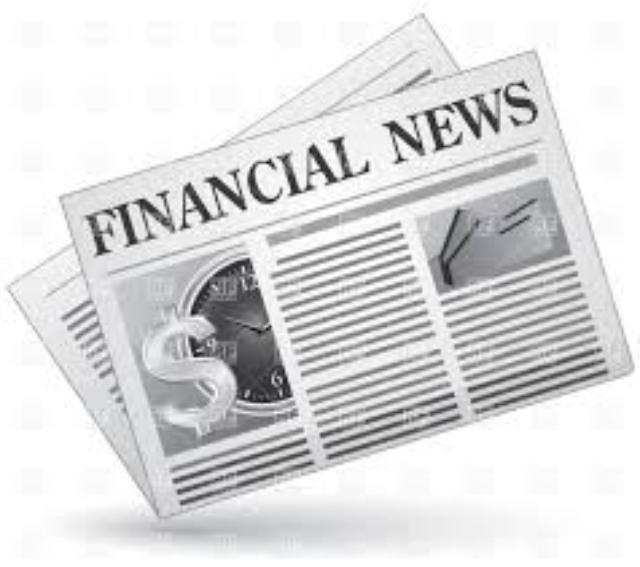cardboard paper: (5, 13, 627, 514)
